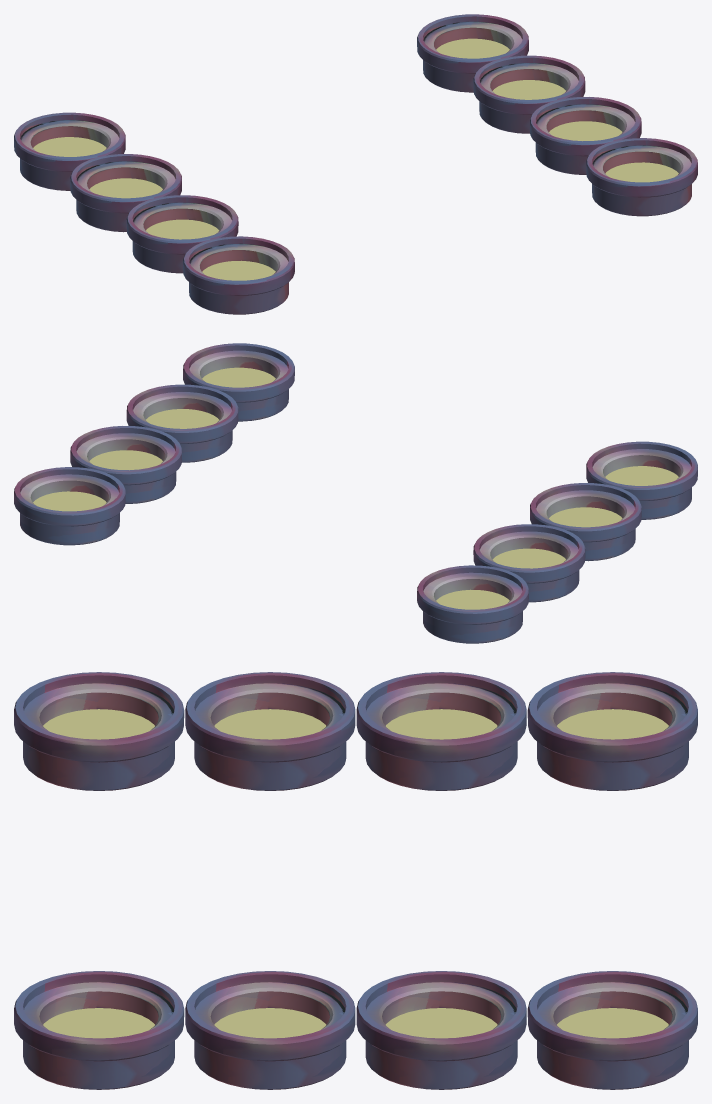
The model's file is battlescence-1-anima.fbx.
The picture shows the model from 3 angles, top to bottom: view 1: azimuth 30°, elevation 25°; view 2: azimuth 150°, elevation 25°; view 3: azimuth 270°, elevation 25°; orthographic projection. The views are drawn at different scales.
Parts seen in each view (by area): view 1: fan8, fan4, fan1, fan7, fan3, fan2, fan5, fan6; view 2: fan5, fan3, fan2, fan6, fan4, fan1, fan8, fan7; view 3: fan1, fan2, fan6, fan7, fan5, fan8, fan3, fan4.
Part boxes in pixels (left/top/right/bottom): fan8: left=183, top=236, right=294, bottom=314; fan4: left=586, top=138, right=697, bottom=216; fan1: left=473, top=55, right=585, bottom=133; fan7: left=126, top=195, right=238, bottom=273; fan3: left=417, top=14, right=528, bottom=92; fan2: left=530, top=97, right=641, bottom=174; fan5: left=14, top=112, right=125, bottom=190; fan6: left=70, top=154, right=181, bottom=232; fan5: left=417, top=565, right=528, bottom=643; fan3: left=14, top=467, right=125, bottom=545; fan2: left=126, top=384, right=238, bottom=462; fan6: left=473, top=524, right=585, bottom=602; fan4: left=183, top=343, right=294, bottom=421; fan1: left=70, top=426, right=181, bottom=503; fan8: left=586, top=441, right=697, bottom=519; fan7: left=530, top=483, right=641, bottom=561; fan1: left=356, top=971, right=526, bottom=1089; fan2: left=185, top=971, right=355, bottom=1089; fan6: left=356, top=672, right=526, bottom=790; fan7: left=185, top=672, right=355, bottom=790; fan5: left=527, top=672, right=697, bottom=790; fan8: left=14, top=672, right=184, bottom=790; fan3: left=527, top=971, right=697, bottom=1089; fan4: left=14, top=971, right=184, bottom=1089.
Bounding box in the file's own units: 1492 × 98.09 × 1163.
